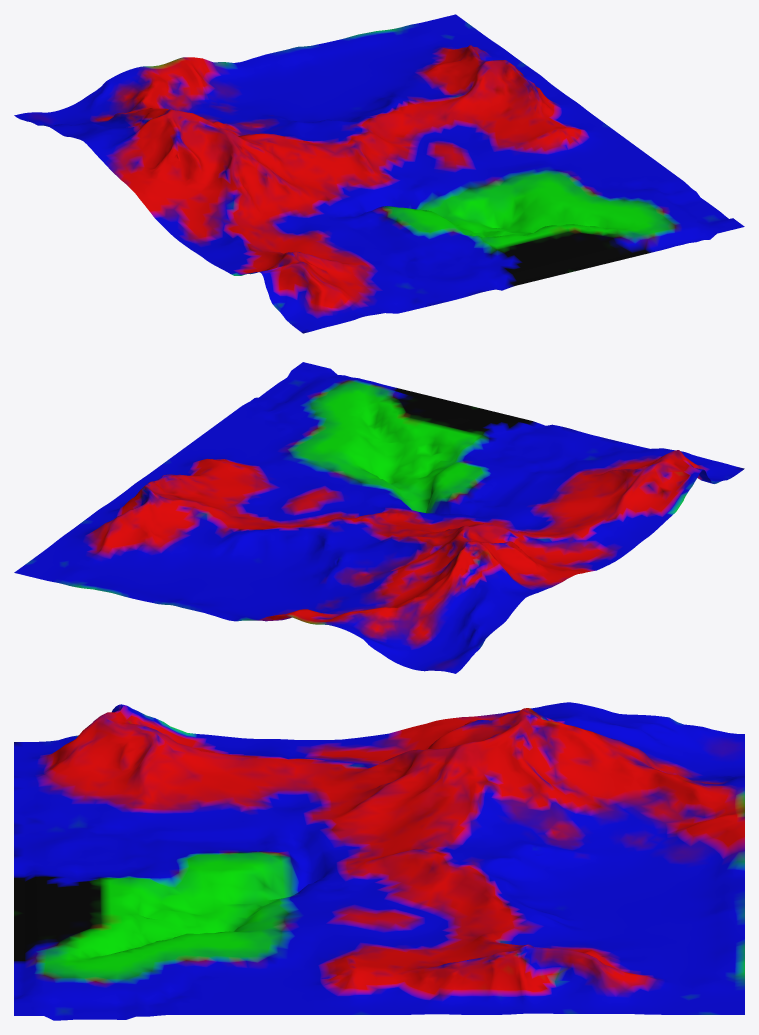
3 renders of one model, top to bottom at view 1: azimuth 30°, elevation 25°; view 2: azimuth 150°, elevation 25°; view 3: azimuth 270°, elevation 25°, orthographic. The views are drawn at different scales.
Visible parts, largest first — view 1: SM_Cartoon_Surface_YLGMCZ_001_LOD0; view 2: SM_Cartoon_Surface_YLGMCZ_001_LOD0; view 3: SM_Cartoon_Surface_YLGMCZ_001_LOD0.
Part boxes in pixels (x1,y1,x2,y2): SM_Cartoon_Surface_YLGMCZ_001_LOD0: (14,14,744,333); SM_Cartoon_Surface_YLGMCZ_001_LOD0: (14,362,744,673); SM_Cartoon_Surface_YLGMCZ_001_LOD0: (14,702,744,1020).
Bounding box in the file's own units: 92160 × 17028 × 104448.
